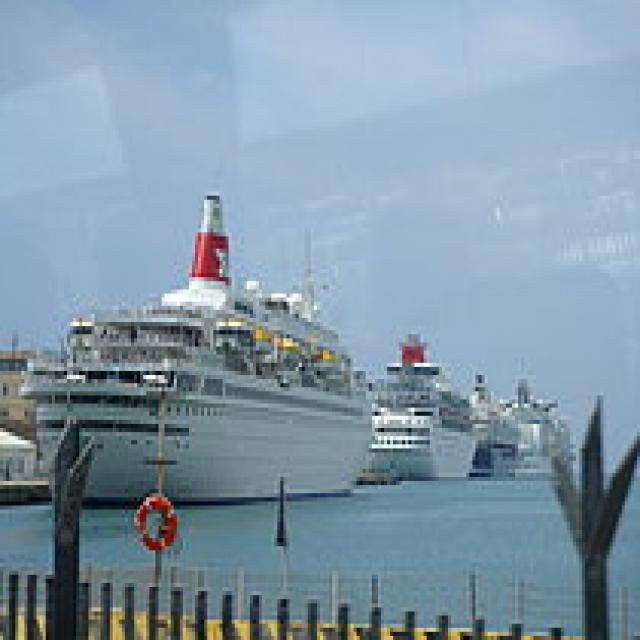Ship: (13, 168, 382, 507)
